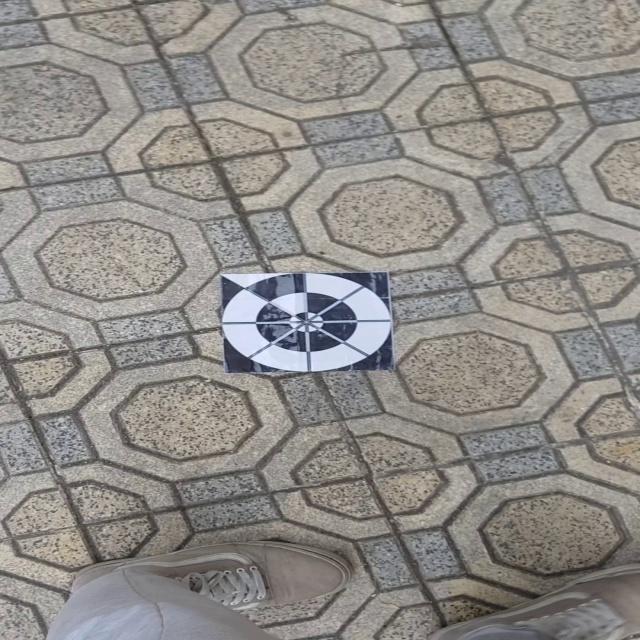landing-zone: (217, 265, 398, 380)
